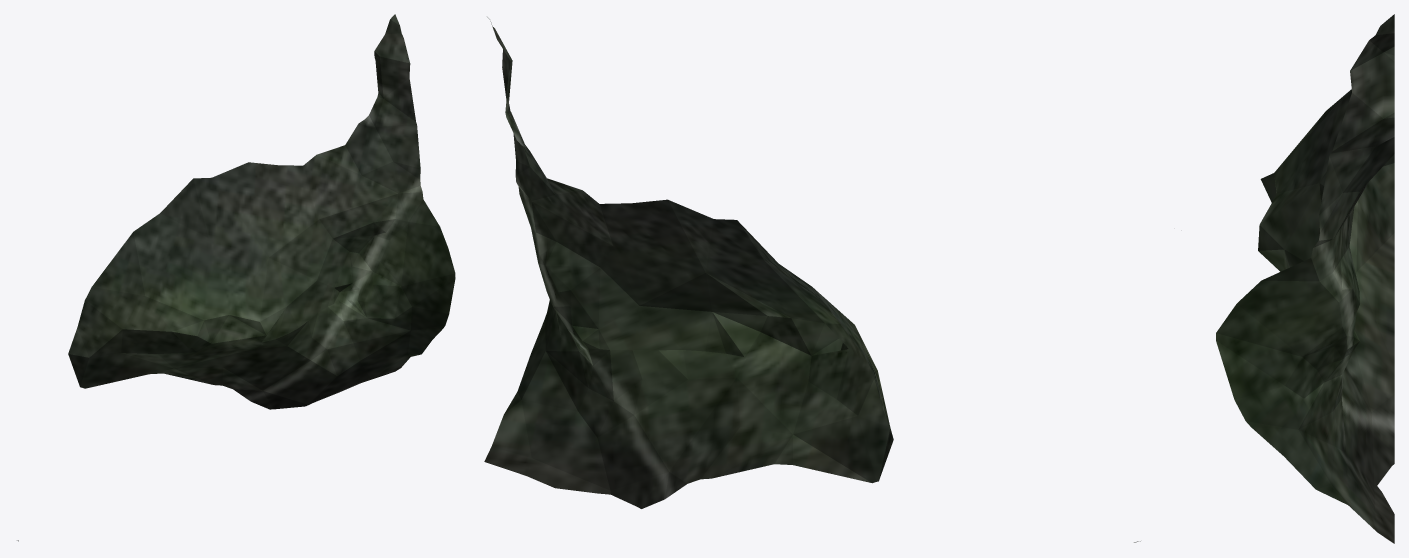
3 views of the same model, side by side, from view 1: azimuth 30°, elevation 25°; view 2: azimuth 150°, elevation 25°; view 3: azimuth 270°, elevation 25° (orthographic). The views are drawn at different scales.
Size of the model in its own units: 2.42 by 1.87 by 0.695.
Materials: 1 (1 with a texture image).
